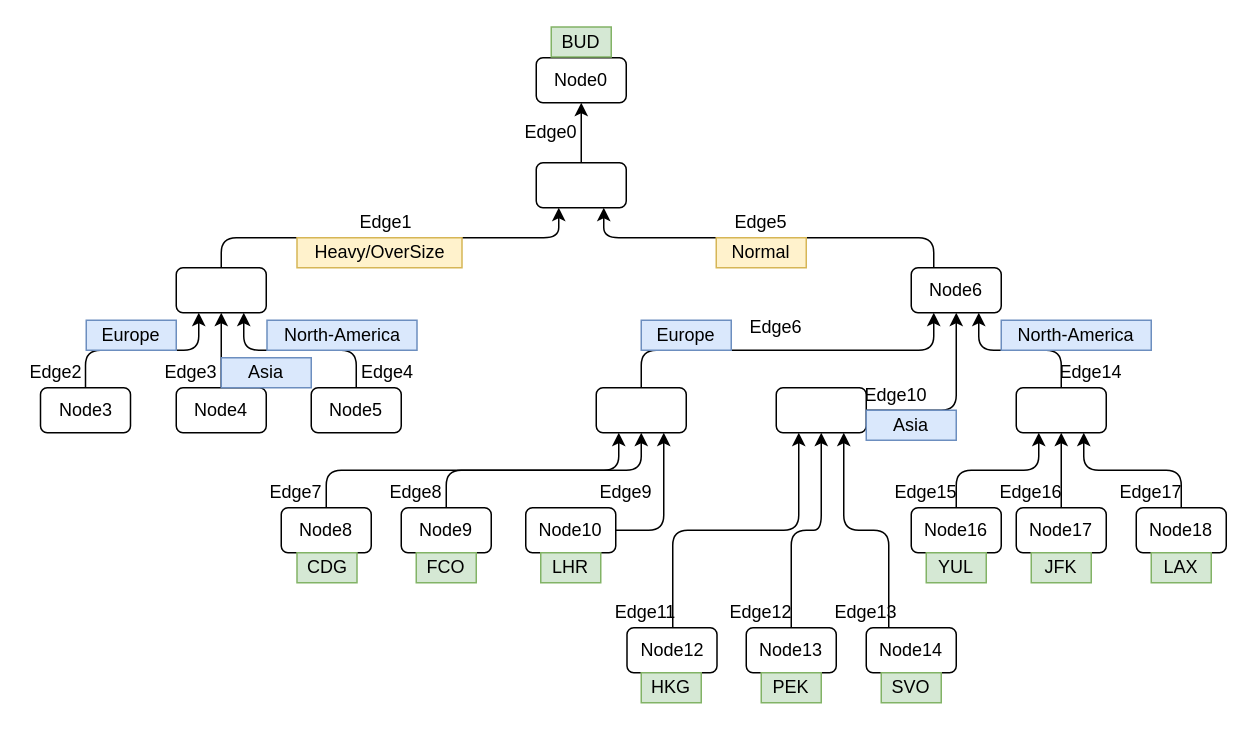
Image size: 1253x729. Some labels were removed from this diagram. Here are the shapes that lost their labels. From the top down, the centre of each, then its label:
At point (580, 184): "Node1".
At point (220, 289): "Node2".
At point (640, 409): "Node7".
At point (820, 409): "Node11".
At point (1060, 409): "Node15".
